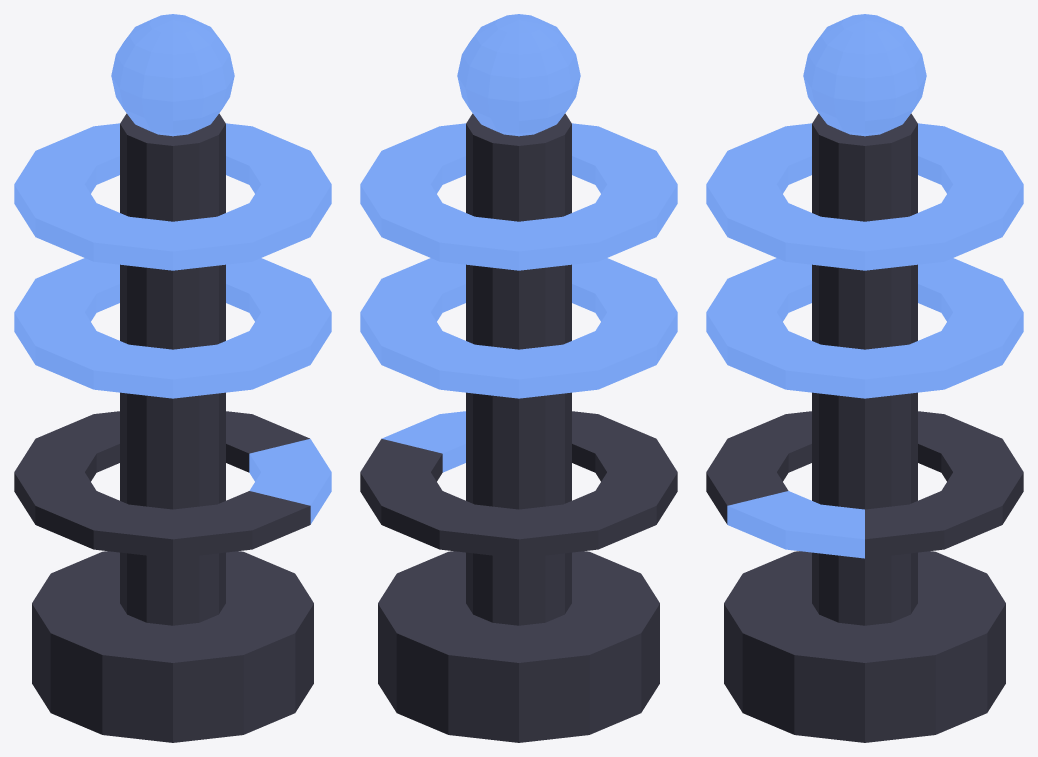
The model's file is prop_tesla_coil.glb.
3 renders of one model, left to right at view 1: azimuth 30°, elevation 25°; view 2: azimuth 150°, elevation 25°; view 3: azimuth 270°, elevation 25°, orthographic.
Visible parts, largest first — view 1: prop_tesla_coil; view 2: prop_tesla_coil; view 3: prop_tesla_coil.
Part boxes in pixels (x1,y1,x2,y2): prop_tesla_coil: (14, 14, 331, 742); prop_tesla_coil: (360, 14, 677, 742); prop_tesla_coil: (706, 14, 1023, 742).
Bounding box in the file's own units: 1.8 × 4.15 × 1.8.
